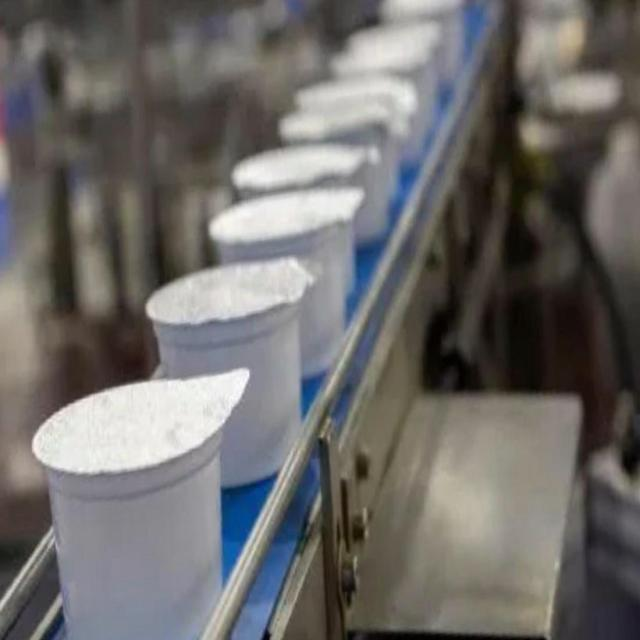food: (30, 366, 250, 638), (143, 254, 316, 490), (207, 182, 366, 382)
